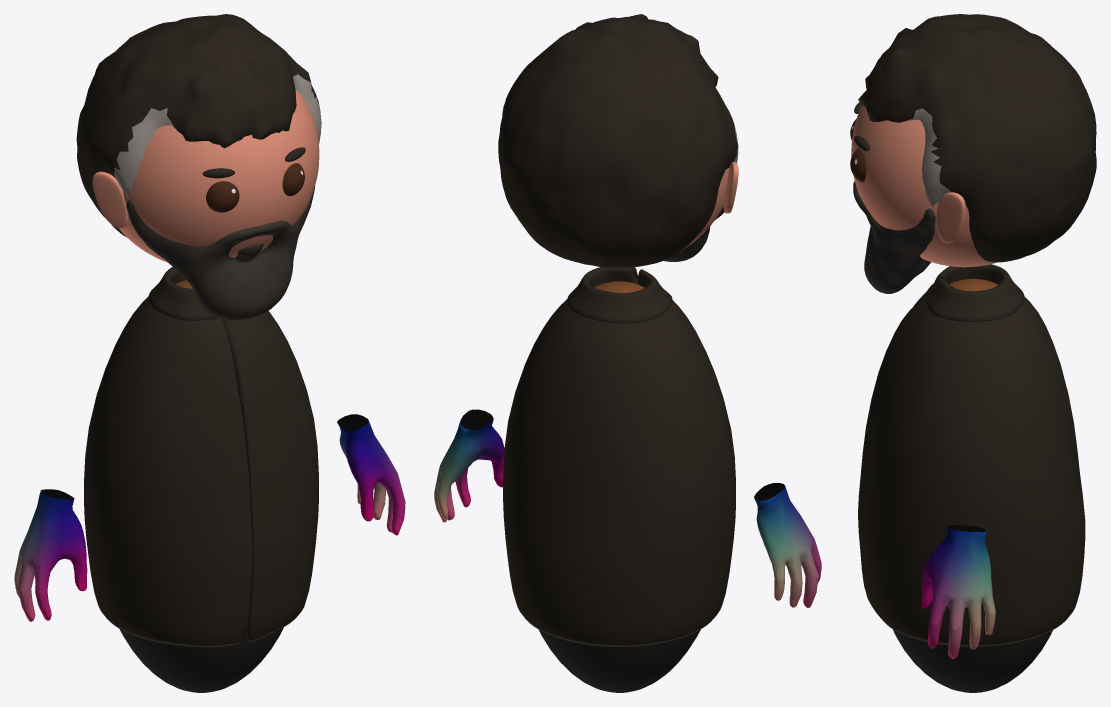
Rendered from Michelangelo.fbx.
3 views of the same model, side by side, from view 1: azimuth 30°, elevation 25°; view 2: azimuth 150°, elevation 25°; view 3: azimuth 270°, elevation 25° (orthographic).
Parts seen in each view (by area): view 1: Shirt.003, Hair.003, Head.004, Hands.003, Beard.003, Body.000, Eyes.004, Cube.004; view 2: Shirt.003, Hair.003, Hands.003, Body.000; view 3: Shirt.003, Hair.003, Head.004, Hands.003, Body.000, Beard.003, Cube.004, Eyes.004.
Boxes of the visible parts, x1,y1,x2,y2 form: Shirt.003: [84, 267, 318, 647]; Hair.003: [76, 14, 321, 237]; Head.004: [119, 90, 319, 262]; Hands.003: [14, 414, 405, 621]; Beard.003: [126, 185, 315, 320]; Body.000: [119, 280, 283, 692]; Eyes.004: [206, 163, 304, 212]; Cube.004: [92, 121, 321, 228]; Shirt.003: [503, 267, 735, 646]; Hair.003: [498, 14, 738, 267]; Hands.003: [434, 409, 821, 607]; Body.000: [539, 281, 700, 692]; Shirt.003: [858, 264, 1085, 646]; Hair.003: [858, 14, 1096, 262]; Head.004: [851, 105, 996, 267]; Hands.003: [921, 525, 995, 658]; Body.000: [893, 278, 1052, 692]; Beard.003: [853, 181, 935, 293]; Cube.004: [936, 192, 965, 243]; Eyes.004: [850, 119, 866, 182].
Size of the model in its own units: 383 by 635 by 214.
